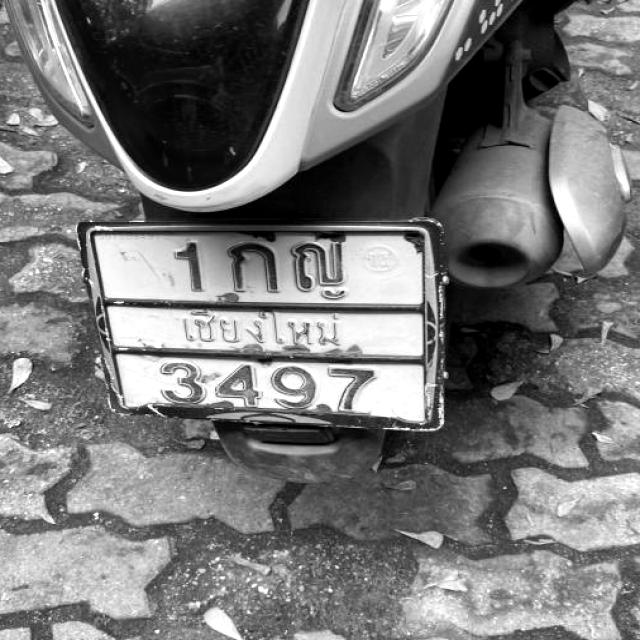letters: (291, 234, 361, 298), (162, 235, 213, 299), (208, 358, 265, 415), (331, 365, 389, 416), (226, 238, 280, 290), (158, 340, 196, 412), (274, 363, 309, 409)
license-plate: (85, 225, 440, 433)
province: (172, 303, 358, 359)
